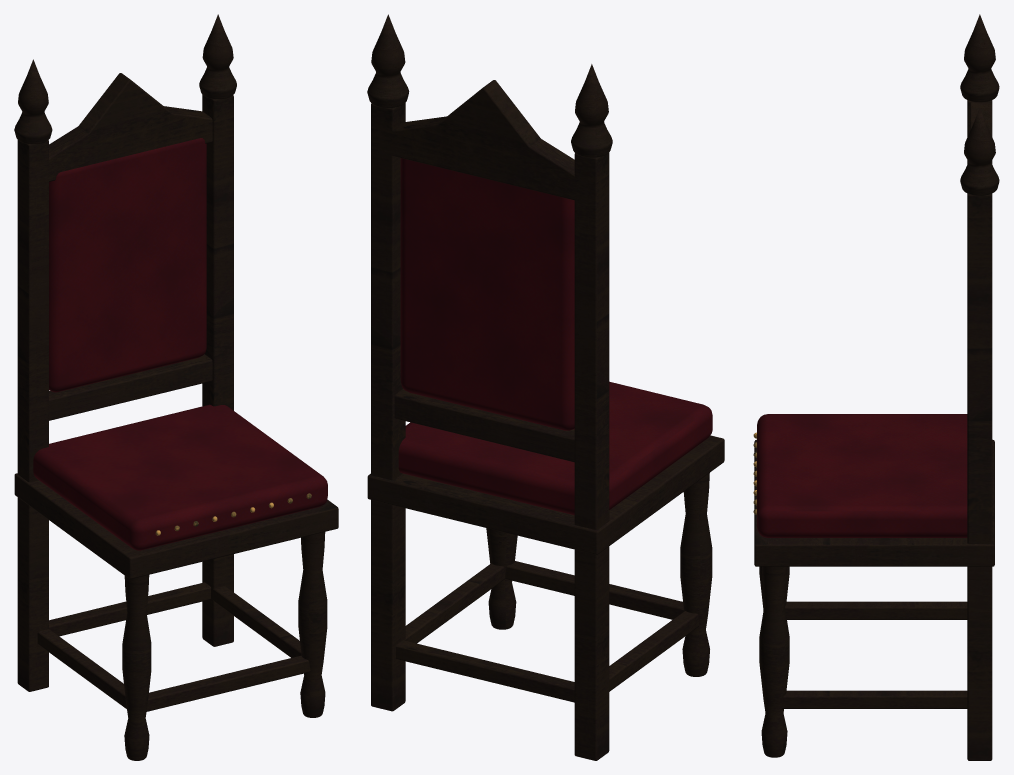
The model's file is Chair_HighBack.gltf.
The picture shows the model from 3 angles, left to right: view 1: azimuth 30°, elevation 25°; view 2: azimuth 150°, elevation 25°; view 3: azimuth 270°, elevation 25°; orthographic projection. The views are drawn at different scales.
Visible parts, largest first — view 1: Chair_HighBack_Body, Chair_HighBack_Upholstery; view 2: Chair_HighBack_Body, Chair_HighBack_Upholstery; view 3: Chair_HighBack_Body, Chair_HighBack_Upholstery.
Part boxes in pixels (bbox=[...]): Chair_HighBack_Body: bbox=[14, 14, 338, 760]; Chair_HighBack_Upholstery: bbox=[33, 138, 327, 550]; Chair_HighBack_Body: bbox=[367, 14, 724, 760]; Chair_HighBack_Upholstery: bbox=[398, 158, 712, 515]; Chair_HighBack_Body: bbox=[753, 14, 999, 760]; Chair_HighBack_Upholstery: bbox=[757, 414, 967, 537].
Size of what is drawn, in the model's own units: 0.5194 by 1.43 by 0.4912.
Materials: 3 (3 with a texture image).
